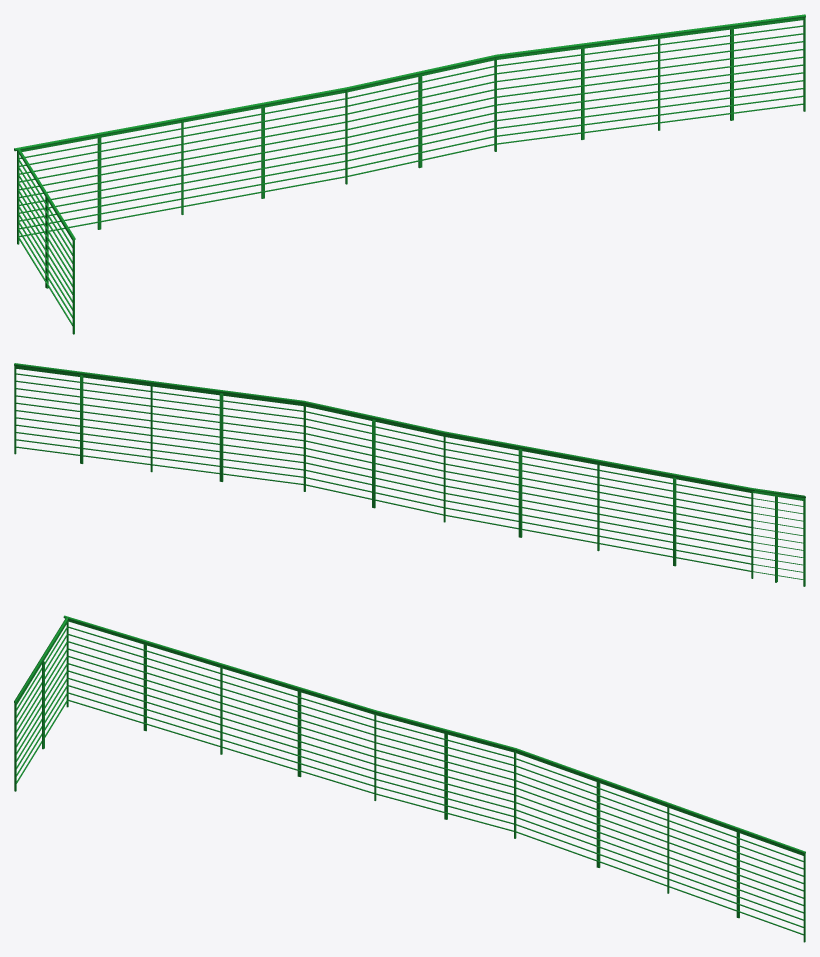
Rendered from Ramp03FenceLower.fbx.
The picture shows the model from 3 angles, top to bottom: view 1: azimuth 30°, elevation 25°; view 2: azimuth 150°, elevation 25°; view 3: azimuth 330°, elevation 25°; orthographic projection. The views are drawn at different scales.
Visible parts, largest first — view 1: Ramp03FenceLower; view 2: Ramp03FenceLower; view 3: Ramp03FenceLower.
Part boxes in pixels (<box>): Ramp03FenceLower: <box>14,14,805,334</box>; Ramp03FenceLower: <box>14,363,805,586</box>; Ramp03FenceLower: <box>14,615,805,942</box>.
Size of the model in its own units: 1060 by 200 by 134.
